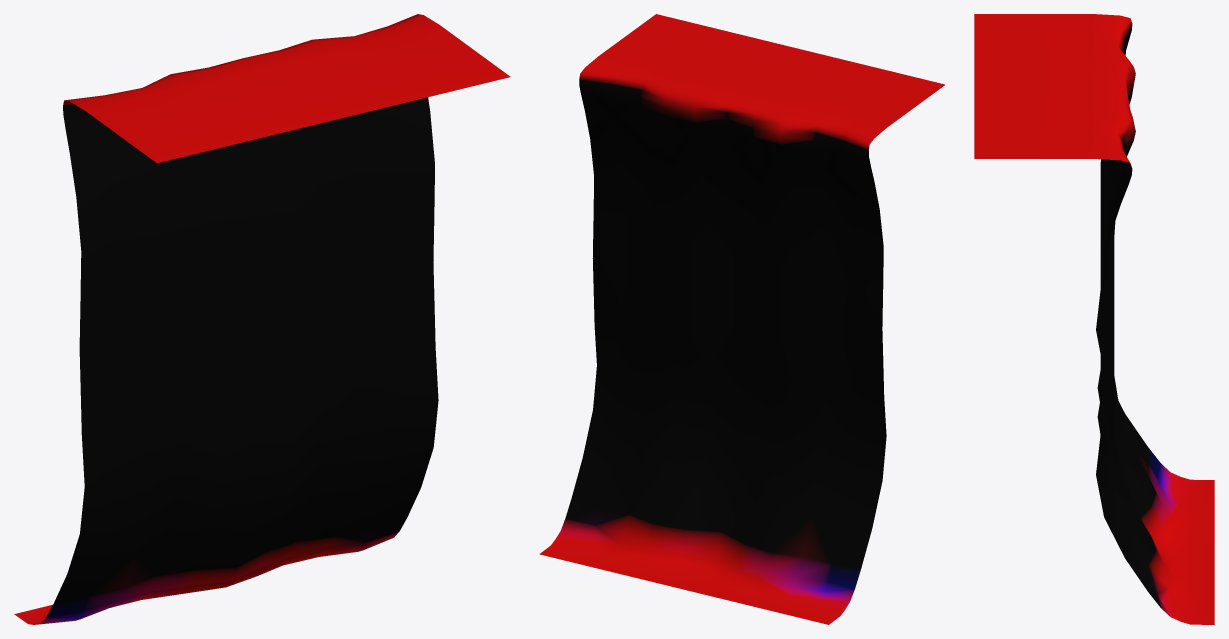
Rendered from GroundCliff01A 3M Background.fbx.
3 renders of one model, left to right at view 1: azimuth 30°, elevation 25°; view 2: azimuth 150°, elevation 25°; view 3: azimuth 270°, elevation 25°, orthographic. The views are drawn at different scales.
Parts seen in each view (by area): view 1: GroundCliff01A 3M Background; view 2: GroundCliff01A 3M Background; view 3: GroundCliff01A 3M Background.
Boxes of the visible parts, x1,y1,x2,y2 form: GroundCliff01A 3M Background: (14, 14, 510, 624); GroundCliff01A 3M Background: (539, 14, 945, 624); GroundCliff01A 3M Background: (974, 14, 1214, 624).
Bounding box in the file's own units: 2 × 3 × 1.4.
